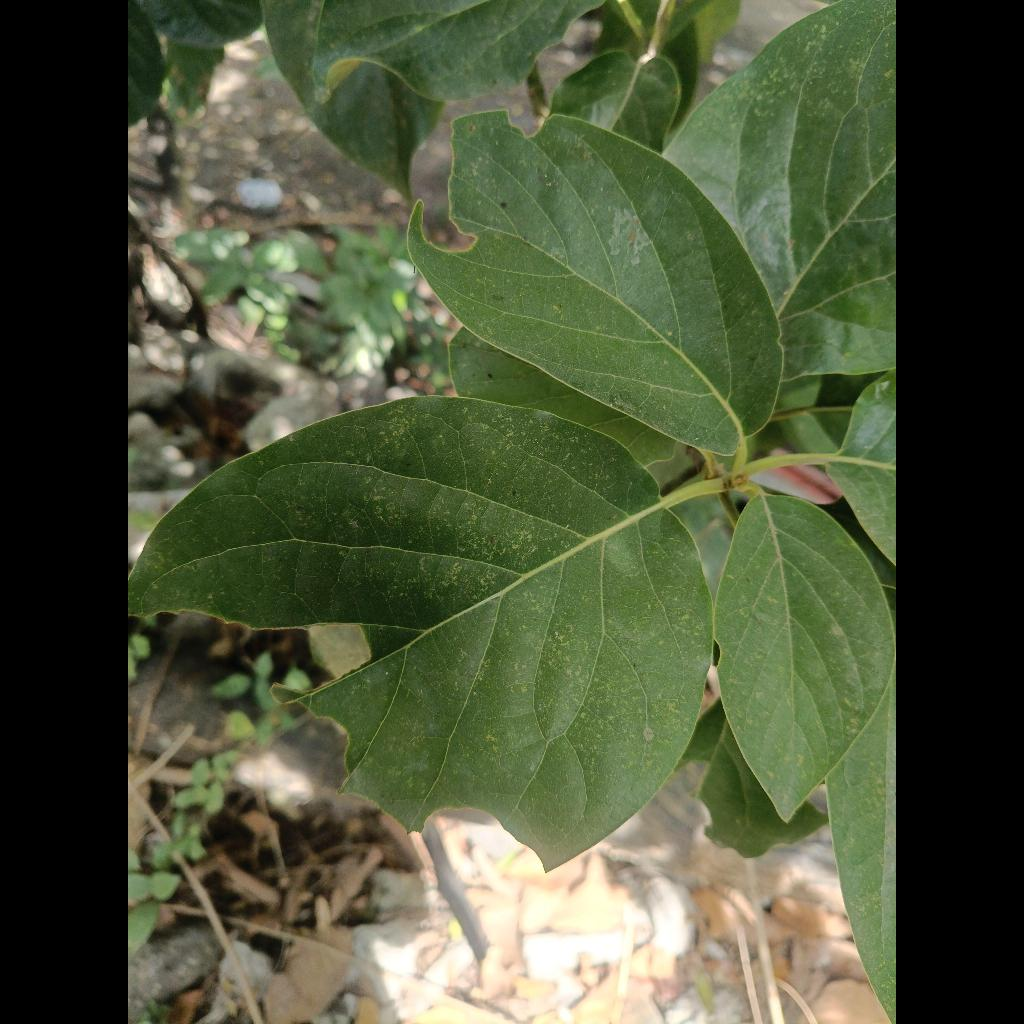Pest Infested: (130, 396, 712, 867), (408, 112, 782, 456)
